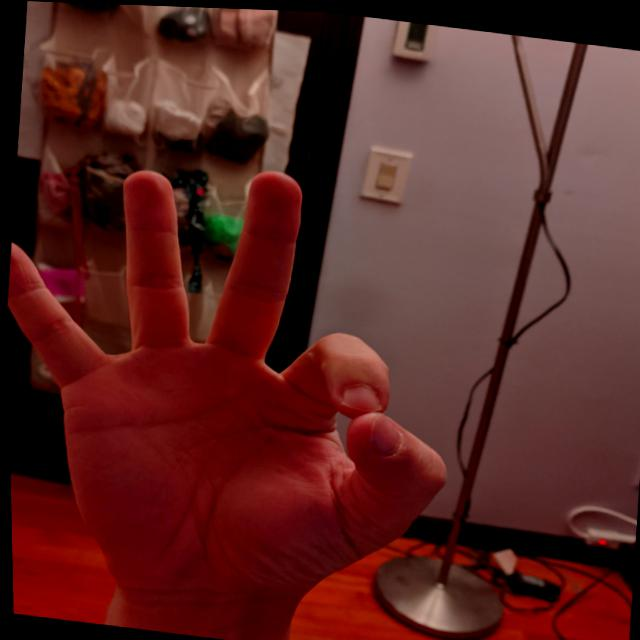F: (2, 132, 484, 639)
